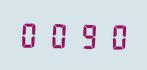nine: (72, 19, 98, 50)
zero: (18, 19, 44, 49), (45, 19, 71, 49), (99, 20, 125, 50)
